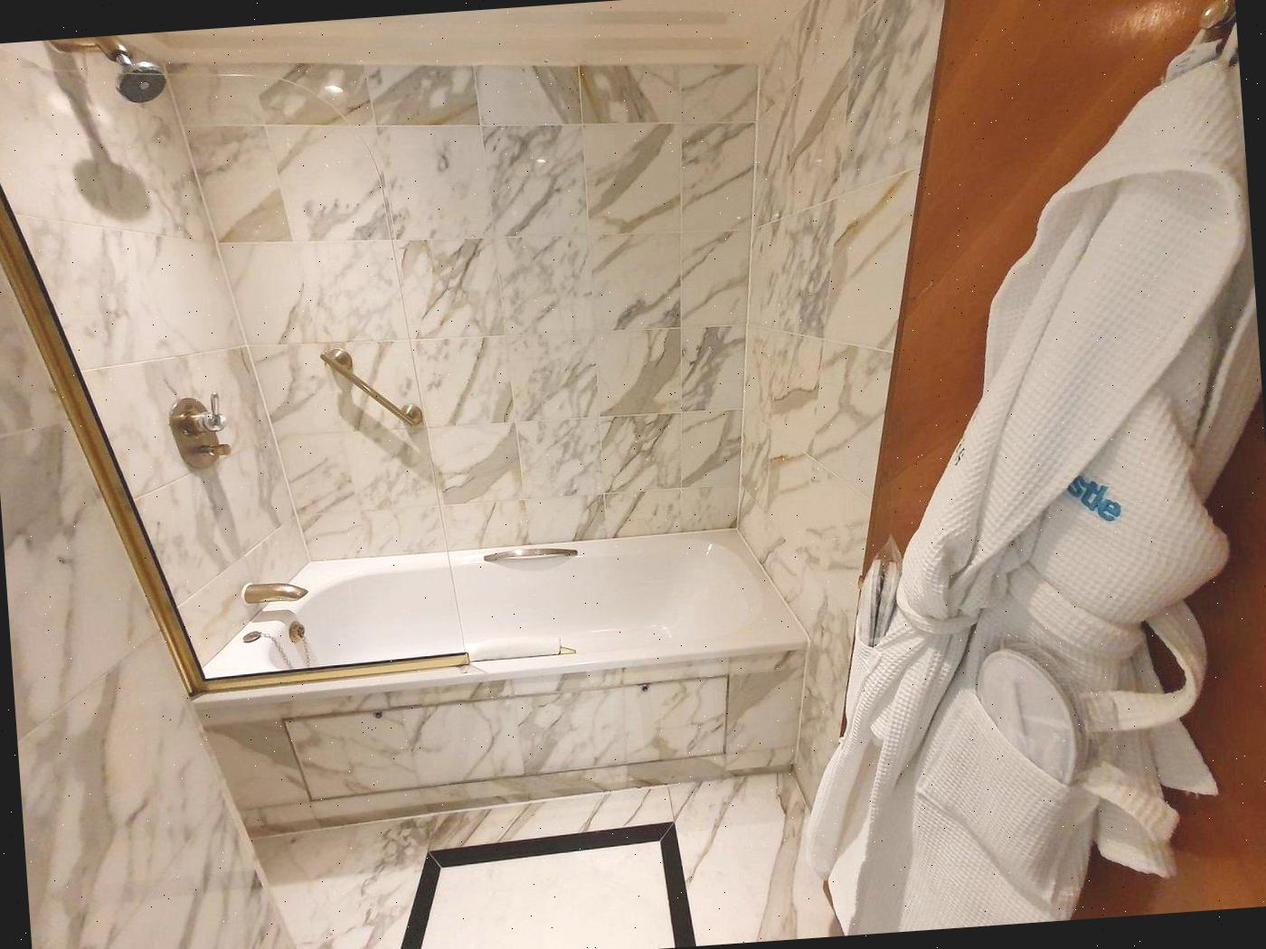clean_bathtub: (206, 526, 802, 835)
clean_floor: (247, 774, 840, 949)
folded_towel: (792, 68, 1238, 930)
